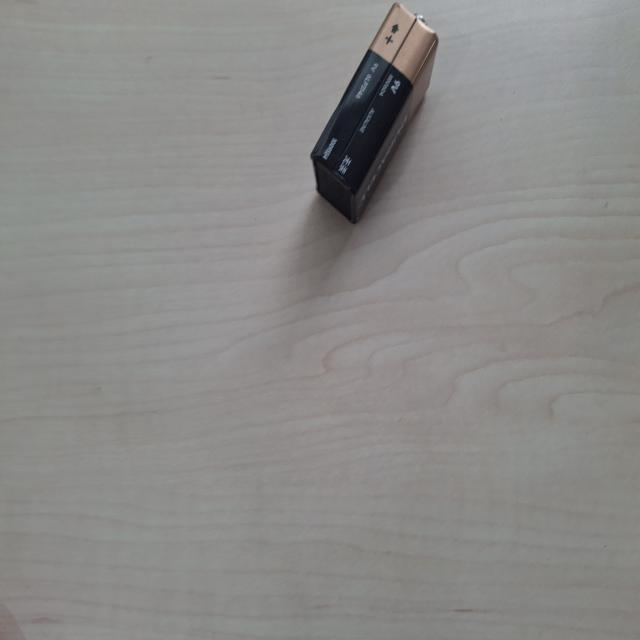9V: (2, 270, 171, 437)
